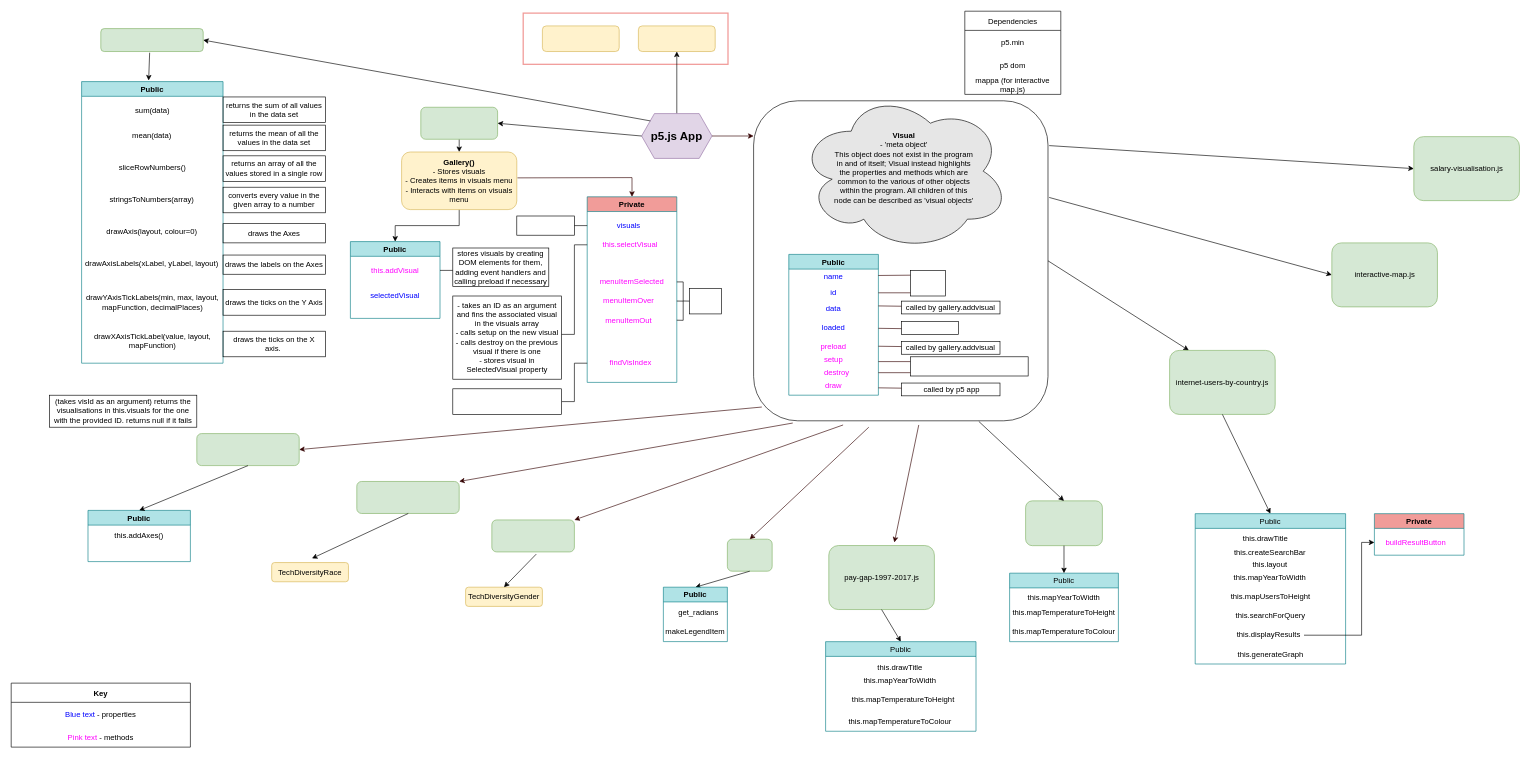
Some shapes in this 1531 by 758 pixel diagram are drawn without their labels. The shapes that lost their labels are listed below. From the top down, each one's centre as x and y in pixels, then its label:
(151,40): helper-functions.js
(580,38): styles.css
(676,38): index.html
(459,123): gallery.js
(545,225): array which stores visuals
(705,301): Event handlers
(928,283): strings
(929,327): used by draw()
(969,366): called by gallery.selectVisual
(507,401): returns the index of a visual in the visuals array given its ID
(247,449): pay-gap-by-job-2017
(407,497): tech-diversity-race.js
(532,535): tech-diversity-gender.js
(1063,523): climate-change.js
(749,555): pie chart.js
